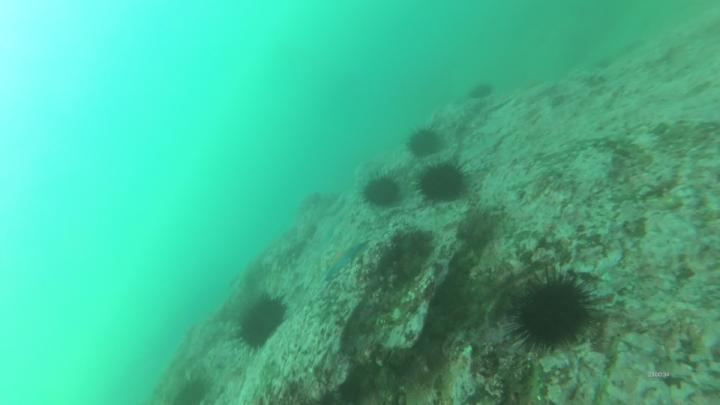echinus: (520, 281, 586, 348), (239, 302, 285, 345), (420, 167, 465, 201), (364, 180, 399, 206), (409, 131, 444, 156)
starfish: (329, 242, 366, 279)
